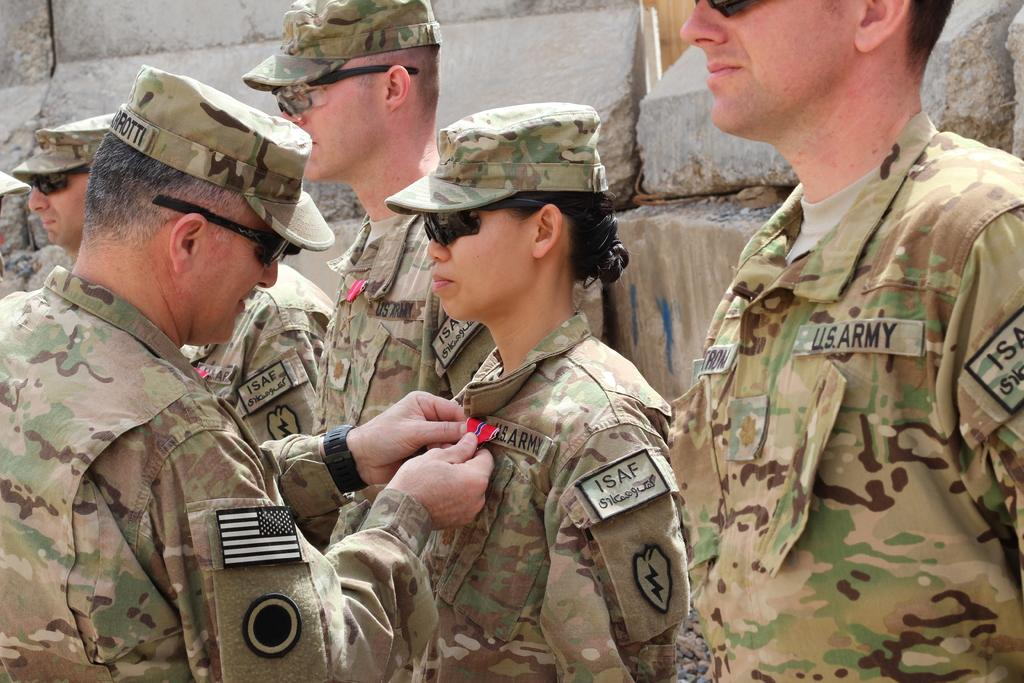Hat: (109, 63, 339, 255), (386, 99, 608, 212), (240, 0, 444, 94), (13, 109, 113, 172), (0, 166, 31, 194)
